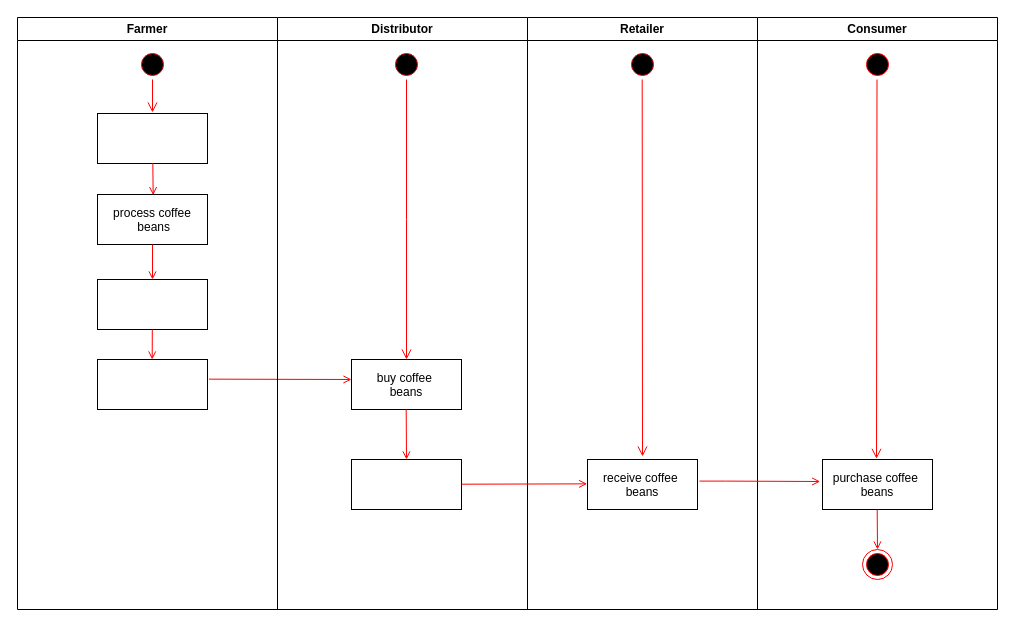
Image size: 1015x627. Some labels were removed from this diagram. The centre of each missing label's shape, as x and y in pixels:
"harvest coffee beans" belongs at pixel 152 138.
"pack coffee beans" belongs at pixel 152 304.
"put coffee beans up for sale" belongs at pixel 152 384.
"ship coffee beans" belongs at pixel 406 484.
